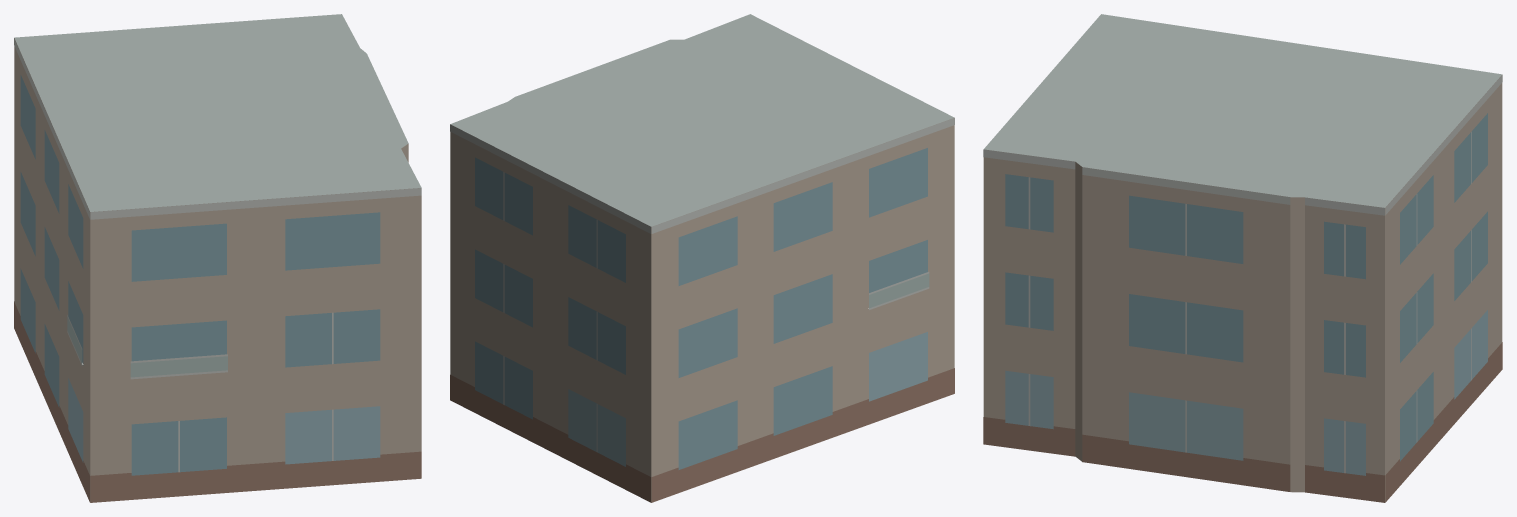
Rendered from survey-upis-32556197.glb.
The picture shows the model from 3 angles, left to right: view 1: azimuth 30°, elevation 25°; view 2: azimuth 150°, elevation 25°; view 3: azimuth 270°, elevation 25°; orthographic projection. The views are drawn at different scales.
Parts seen in each view (by area): view 1: survey-upis-32556197.tmp; view 2: survey-upis-32556197.tmp; view 3: survey-upis-32556197.tmp.
Part boxes in pixels (x1=…): survey-upis-32556197.tmp: x1=14, y1=14, x2=421, y2=502; survey-upis-32556197.tmp: x1=450, y1=14, x2=954, y2=502; survey-upis-32556197.tmp: x1=983, y1=14, x2=1502, y2=502.
Size of the model in its own units: 12.91 by 9.15 by 14.6.
